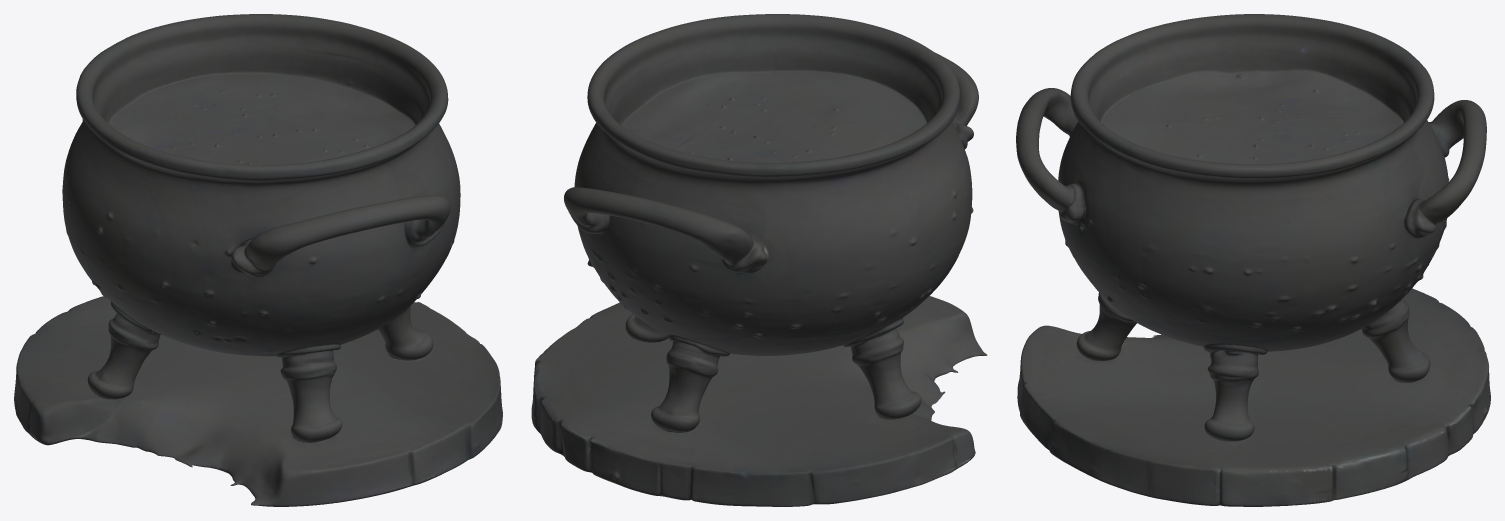
The model's file is detailed_realistic_model_castiron_01.glb.
The picture shows the model from 3 angles, left to right: view 1: azimuth 30°, elevation 25°; view 2: azimuth 150°, elevation 25°; view 3: azimuth 270°, elevation 25°; orthographic projection. The views are drawn at different scales.
Parts seen in each view (by area): view 1: tripo_node_94b58f4f-1720-4d6d-bfdc-464ae7f62fbe; view 2: tripo_node_94b58f4f-1720-4d6d-bfdc-464ae7f62fbe; view 3: tripo_node_94b58f4f-1720-4d6d-bfdc-464ae7f62fbe.
Boxes of the visible parts, box(x1,y1,x2,y2) form: tripo_node_94b58f4f-1720-4d6d-bfdc-464ae7f62fbe: box(14, 14, 502, 506); tripo_node_94b58f4f-1720-4d6d-bfdc-464ae7f62fbe: box(531, 14, 987, 506); tripo_node_94b58f4f-1720-4d6d-bfdc-464ae7f62fbe: box(1016, 14, 1490, 506).
Bounding box in the file's own units: 0.9941 × 0.7477 × 1.
Materials: 1 (1 with a texture image).
